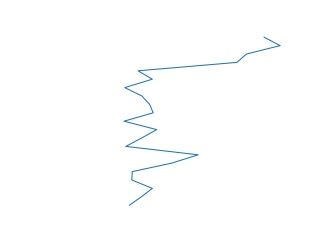crevasseRiverChannelBar: (119, 33, 284, 209)
